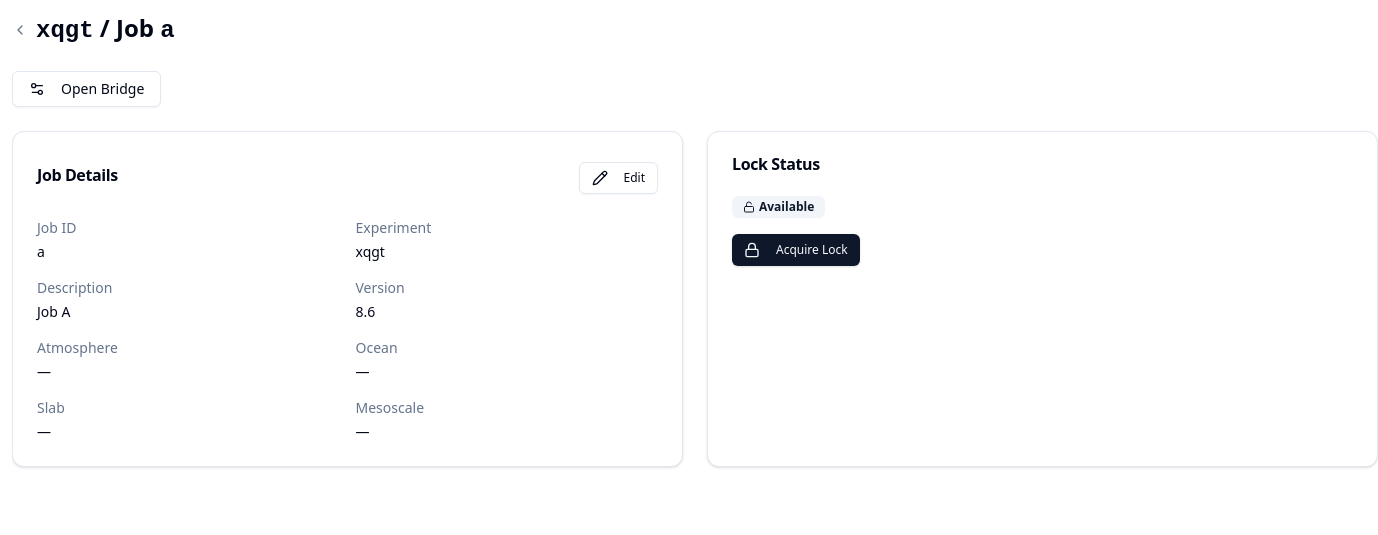
Test: Job CRUD flow › opens edit form on job detail
Step 1. Click the button "Edit" → (618, 178), box [578, 162, 658, 194]
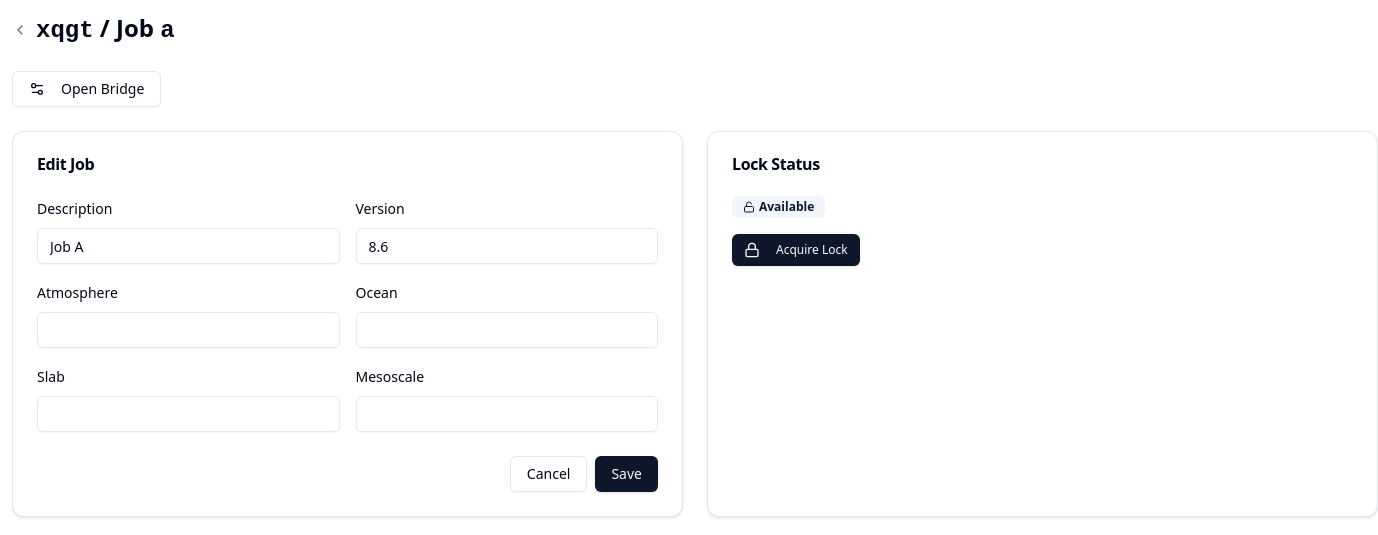
Expected: the text "Edit Job" is shown, [37, 153, 94, 175]
